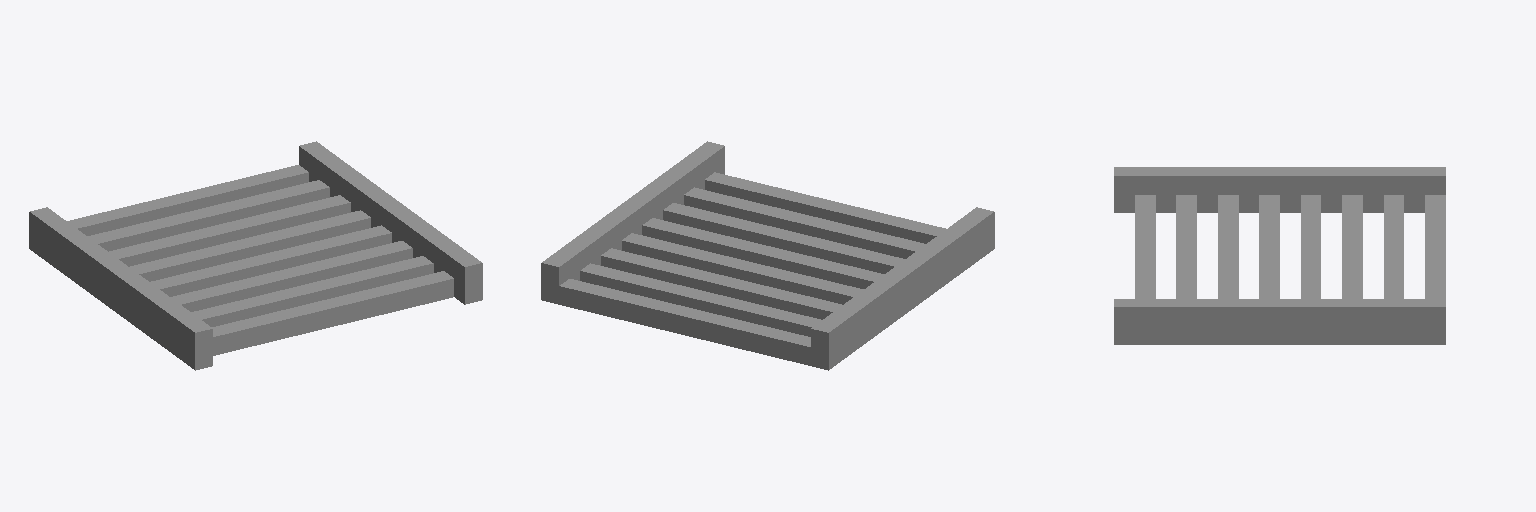
Rendered from conveyor.obj.
3 views of the same model, side by side, from view 1: azimuth 30°, elevation 25°; view 2: azimuth 150°, elevation 25°; view 3: azimuth 270°, elevation 25° (orthographic).
Parts seen in each view (by area): view 1: Cube.001; view 2: Cube.001; view 3: Cube.001.
Boxes of the visible parts, x1=… form: Cube.001: x1=29, y1=141, x2=482, y2=370; Cube.001: x1=541, y1=141, x2=994, y2=370; Cube.001: x1=1114, y1=167, x2=1445, y2=344.
Size of the model in its own units: 1 by 0.125 by 1.